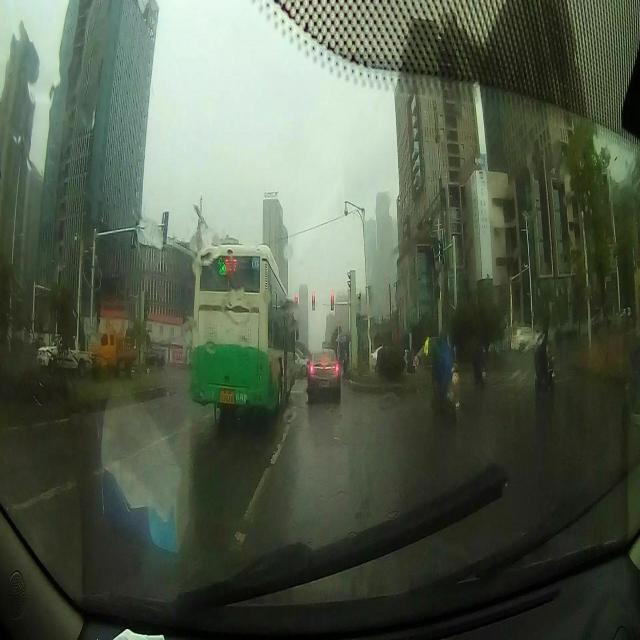car: (191, 240, 293, 408), (306, 344, 340, 392)
